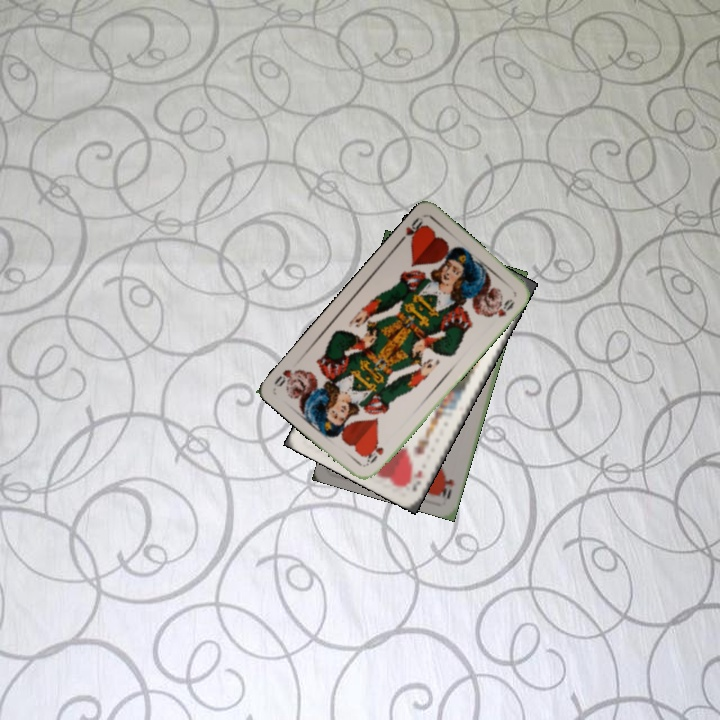HK: (408, 466, 425, 495)
HO: (394, 213, 429, 247), (361, 438, 386, 468), (436, 470, 457, 501)
